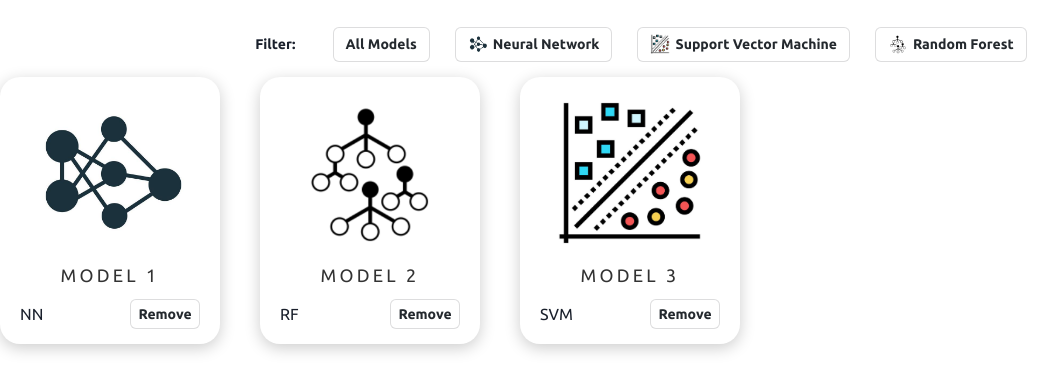
Test: UserSelectButton component › displays only Random Forest models when "Random Forest" button is clicked
Click the button "Random Forest". click: (951, 44)
box: [875,27,1027,62]
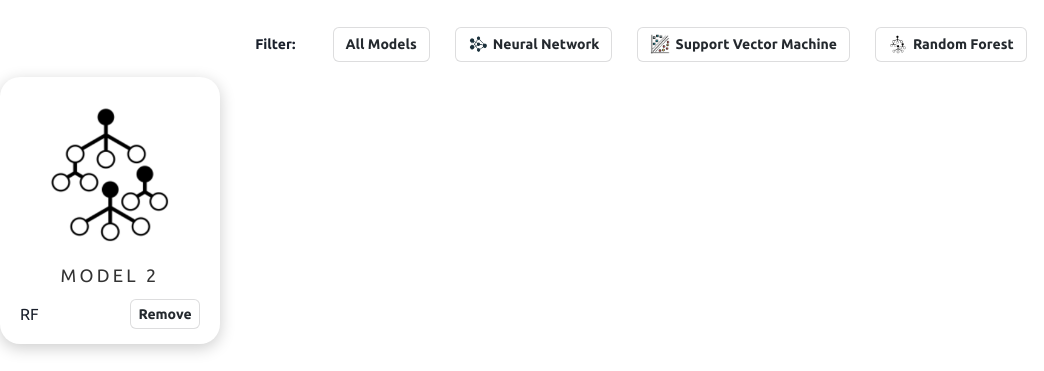
Now the link "Model 1" is gone
Now the link "Model 3" is gone
